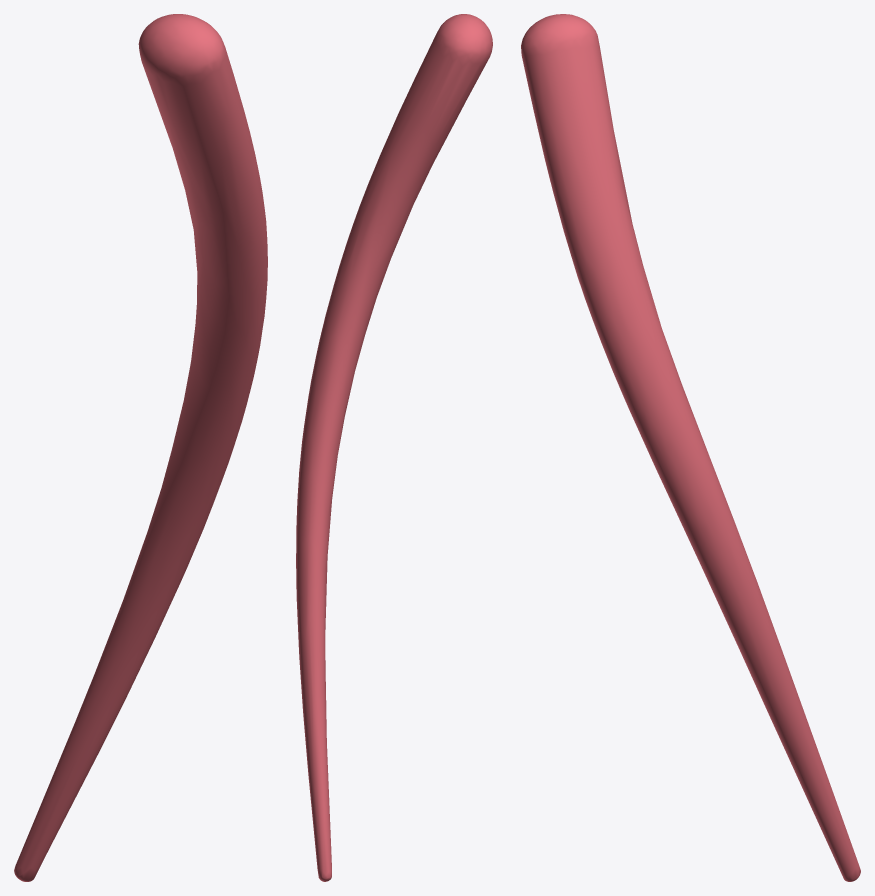
Rendered from fma68140_fj5951.glb.
3 renders of one model, left to right at view 1: azimuth 30°, elevation 25°; view 2: azimuth 150°, elevation 25°; view 3: azimuth 270°, elevation 25°, orthographic. The views are drawn at different scales.
Parts seen in each view (by area): view 1: FMA68140_FJ5951; view 2: FMA68140_FJ5951; view 3: FMA68140_FJ5951.
Boxes of the visible parts, x1,y1,x2,y2 form: FMA68140_FJ5951: (14,14,267,881); FMA68140_FJ5951: (296,14,492,881); FMA68140_FJ5951: (521,14,860,881).
Bounding box in the file's own units: 0.0198 × 0.1161 × 0.0416.
